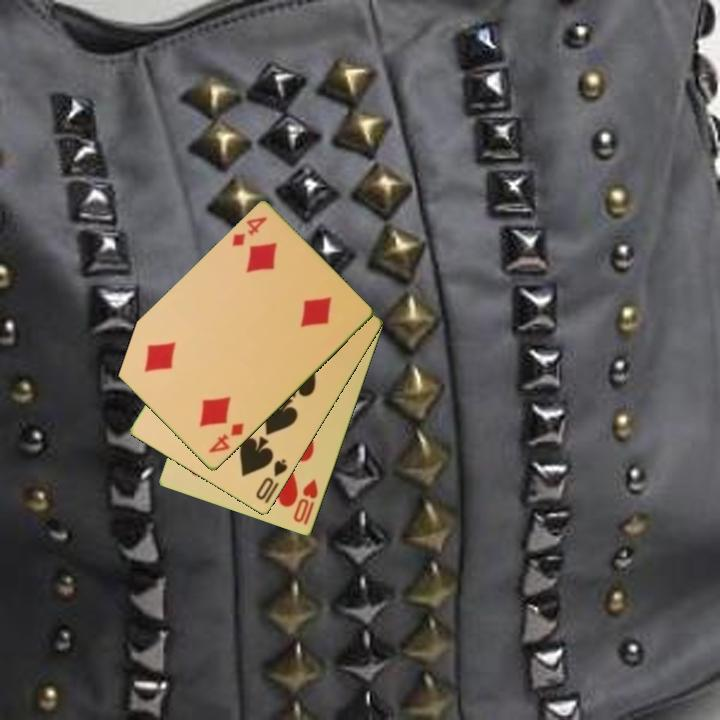10h: (290, 476, 321, 529)
10s: (252, 455, 291, 503)
4d: (205, 420, 247, 457), (228, 213, 270, 250)
